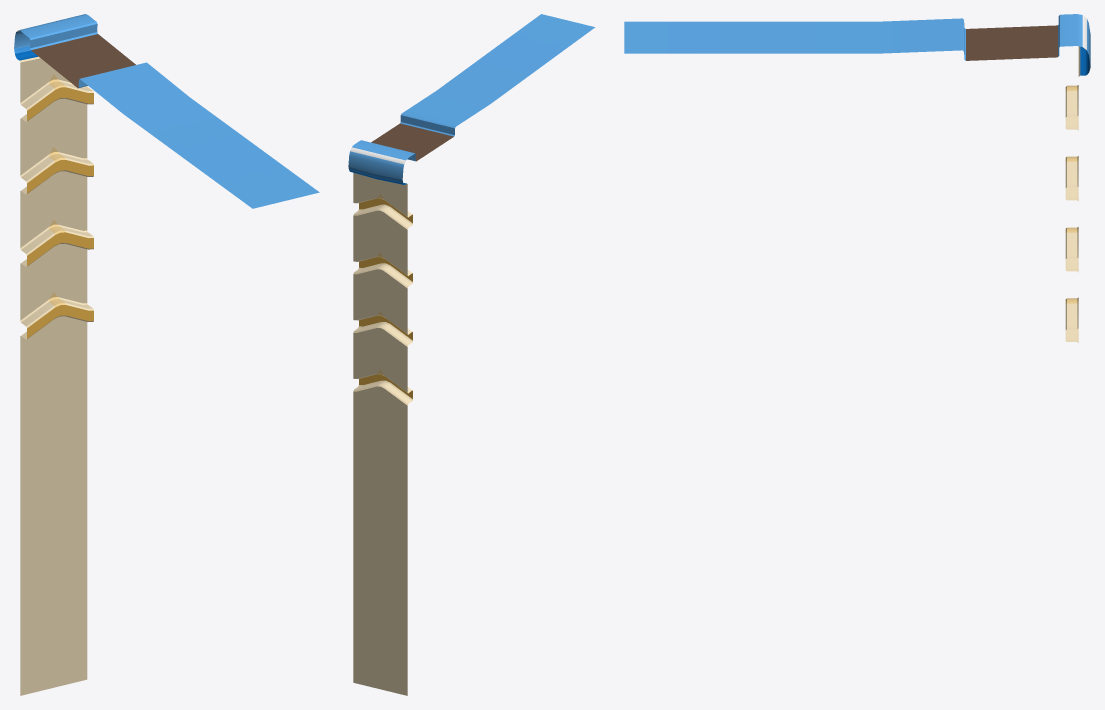
The model's file is v2_Ground.fbx.
3 views of the same model, side by side, from view 1: azimuth 30°, elevation 25°; view 2: azimuth 150°, elevation 25°; view 3: azimuth 270°, elevation 25° (orthographic). The views are drawn at different scales.
Parts seen in each view (by area): view 1: Ground; view 2: Ground; view 3: Ground.
Boxes of the visible parts, bbox=[...] form: Ground: bbox=[14, 14, 319, 695]; Ground: bbox=[348, 14, 595, 695]; Ground: bbox=[624, 14, 1090, 342].
Size of the model in its own units: 200 by 1893 by 1232.
